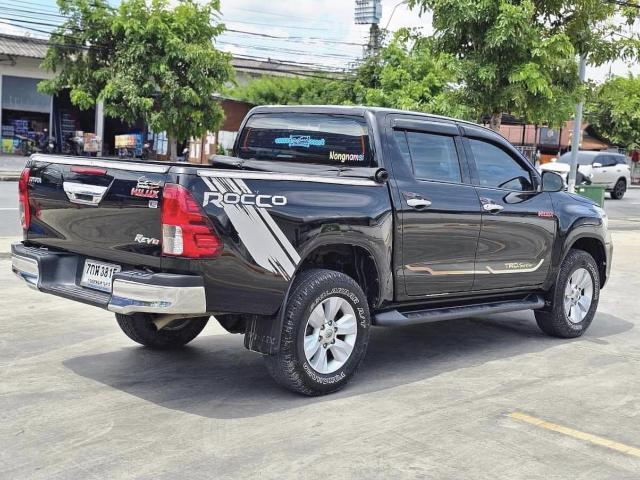pickup-truck: (9, 95, 618, 403)
